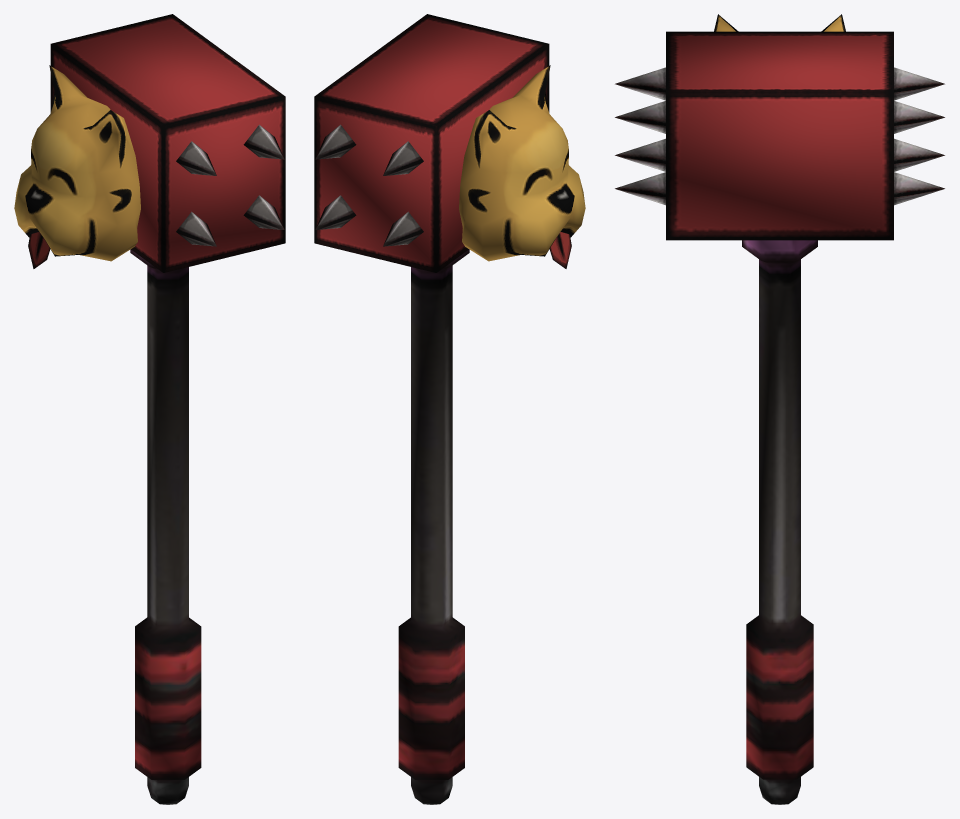
File: WP_1H_ACeeMace_KS.FBX
The picture shows the model from 3 angles, left to right: view 1: azimuth 30°, elevation 25°; view 2: azimuth 150°, elevation 25°; view 3: azimuth 270°, elevation 25°; orthographic projection.
Visible parts, largest first — view 1: WP_1H_ACeeMace_KS; view 2: WP_1H_ACeeMace_KS; view 3: WP_1H_ACeeMace_KS.
Boxes of the visible parts, x1,y1,x2,y2 form: WP_1H_ACeeMace_KS: (14, 14, 285, 804); WP_1H_ACeeMace_KS: (314, 14, 585, 804); WP_1H_ACeeMace_KS: (615, 14, 944, 804).
Bounding box in the file's own units: 44.38 × 156 × 62.74.
